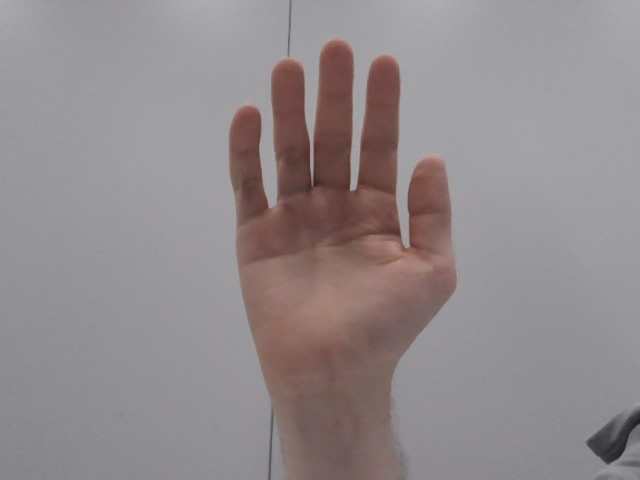nada: (210, 32, 503, 415)
